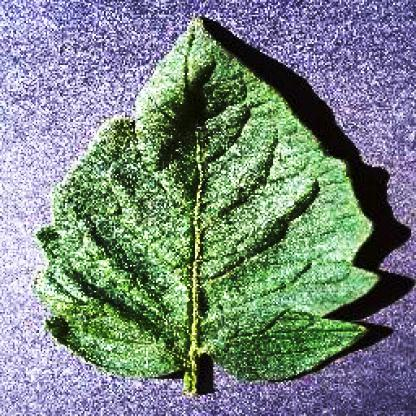Healthy: (29, 17, 414, 396)
